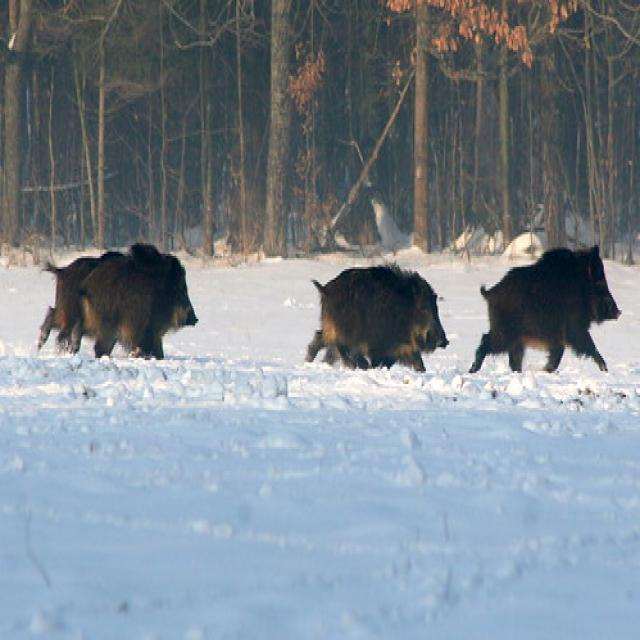boar: (300, 245, 458, 401), (469, 235, 627, 388), (72, 242, 212, 378), (29, 238, 164, 360)
